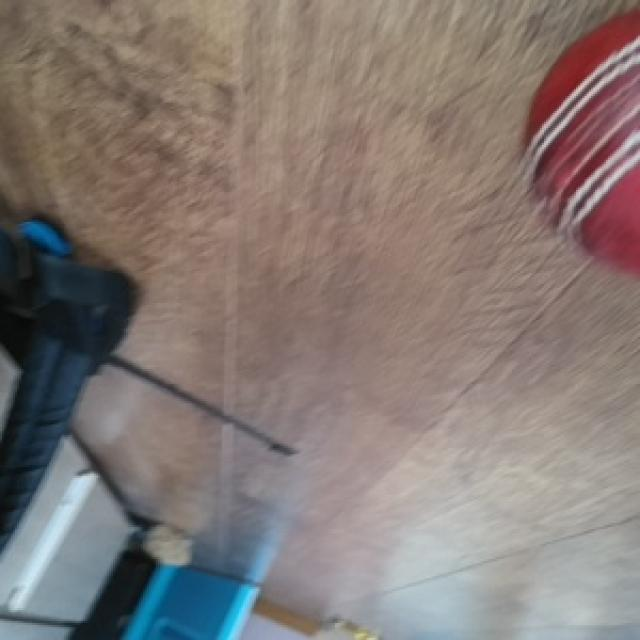ball: (527, 11, 640, 282)
